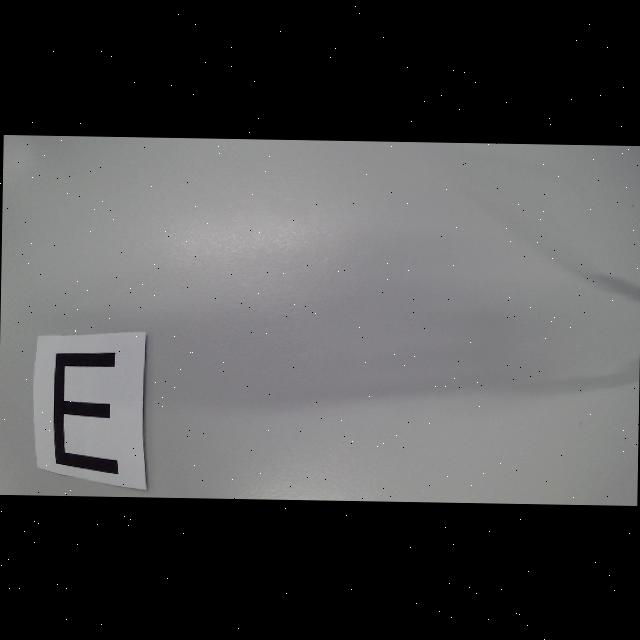FAKE: (52, 351, 121, 474)
